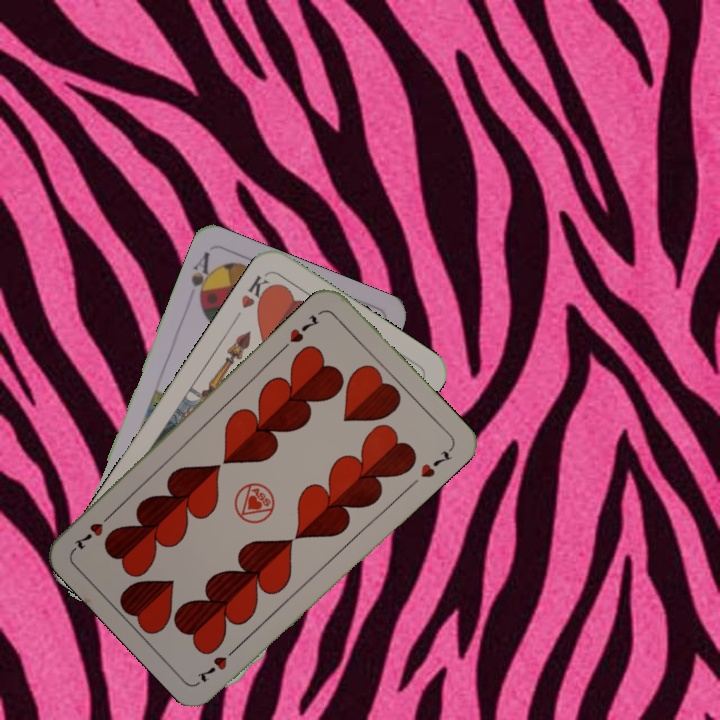H7: (193, 641, 242, 684), (285, 311, 322, 346)
HK: (237, 270, 276, 313)
SA: (187, 247, 218, 308)
